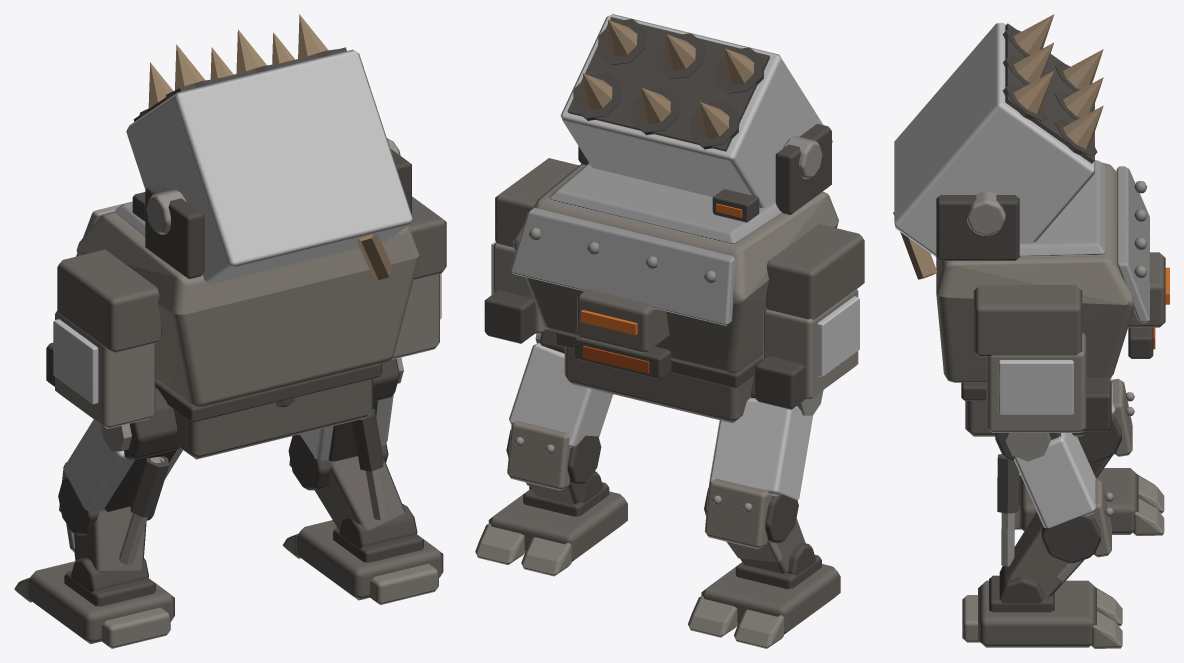
File: crucible_aa_bot.glb
3 views of the same model, side by side, from view 1: azimuth 30°, elevation 25°; view 2: azimuth 150°, elevation 25°; view 3: azimuth 270°, elevation 25° (orthographic). The views are drawn at different scales.
Visible parts, largest first — view 1: Turret, Body; view 2: Turret, Body; view 3: Turret, Body.
Part boxes in pixels (bbox=[...]): Turret: bbox=[46, 14, 446, 428]; Body: bbox=[14, 357, 443, 648]; Turret: bbox=[484, 14, 864, 409]; Body: bbox=[475, 329, 840, 648]; Turret: bbox=[893, 14, 1169, 432]; Body: bbox=[961, 377, 1164, 648].
Size of the model in its own units: 0.91 by 1.41 by 0.6634.
